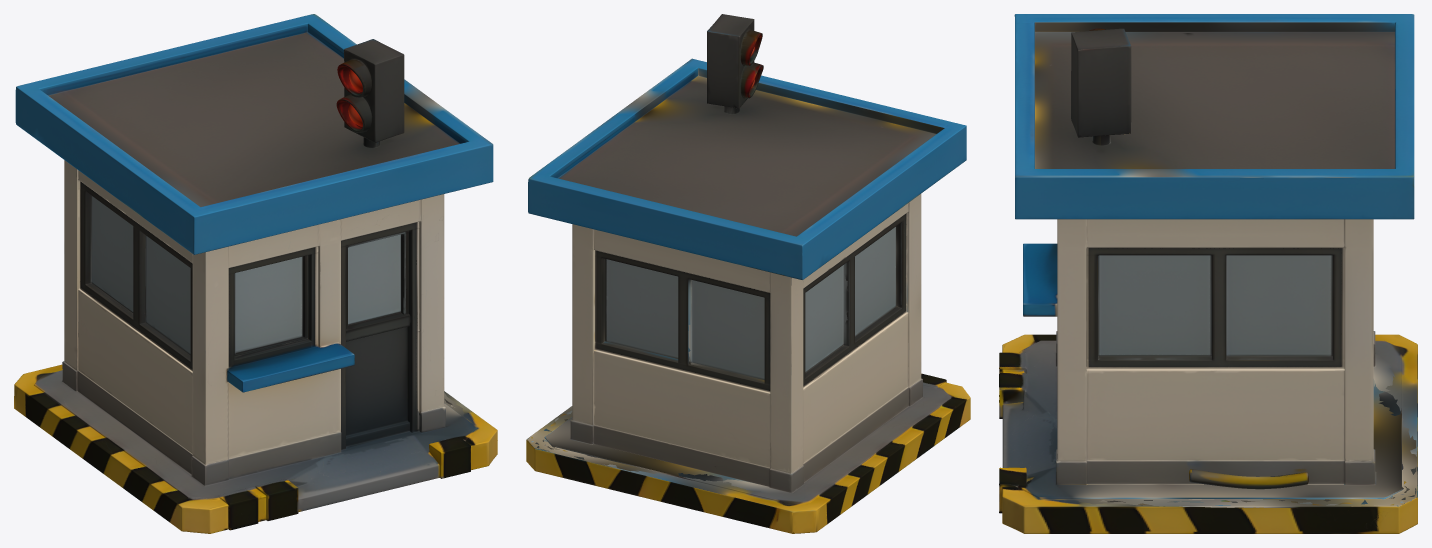
Rendered from TollBoothCabin.fbx.
The picture shows the model from 3 angles, left to right: view 1: azimuth 30°, elevation 25°; view 2: azimuth 150°, elevation 25°; view 3: azimuth 270°, elevation 25°; orthographic projection. The views are drawn at different scales.
Parts seen in each view (by area): view 1: texture_pbr_v128; view 2: texture_pbr_v128; view 3: texture_pbr_v128.
Part boxes in pixels (x1,y1,x2,y2): texture_pbr_v128: (14,14,497,533); texture_pbr_v128: (526,14,970,533); texture_pbr_v128: (999,14,1417,533).
Size of the model in its own units: 65.78 by 79.44 by 67.54.
1 material, 1 textured.
